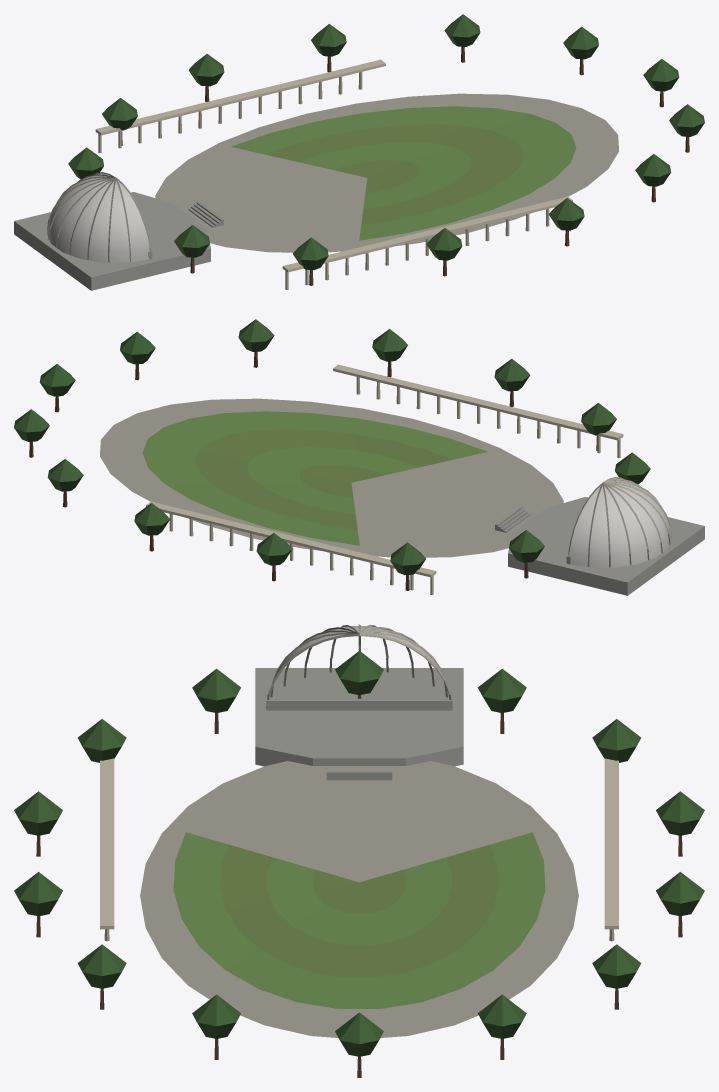
The model's file is desktop.glb.
3 views of the same model, one above another, from view 1: azimuth 30°, elevation 25°; view 2: azimuth 150°, elevation 25°; view 3: azimuth 270°, elevation 25° (orthographic). The views are drawn at different scales.
Visible parts, largest first — view 1: lm.park-bandshell; view 2: lm.park-bandshell; view 3: lm.park-bandshell.
Boxes of the visible parts, x1,y1,x2,y2 form: lm.park-bandshell: (14,14,704,290); lm.park-bandshell: (14,319,704,595); lm.park-bandshell: (14,624,704,1077).
Size of the model in its own units: 178 by 18.92 by 126.
